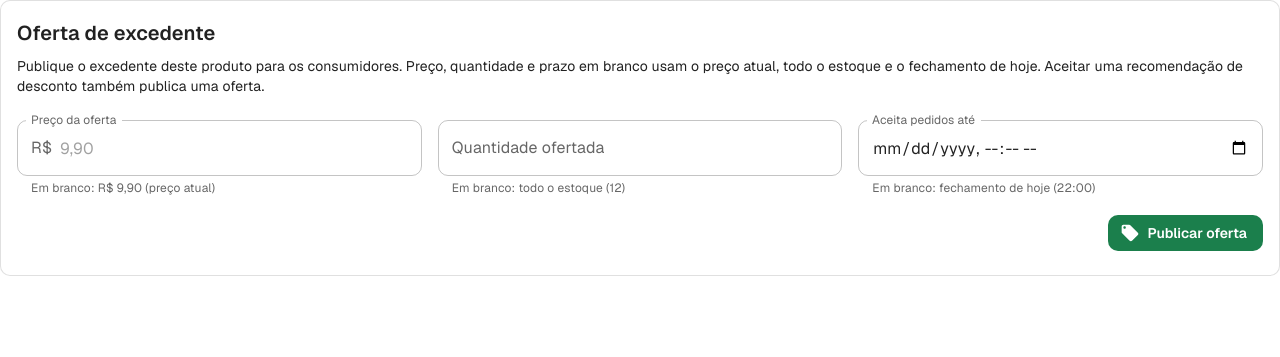
it: ProductOfferCard › explains the 422 raised when another offer of the product is still active
Click the button "Publicar oferta" at (1185, 233), box [1108,215,1263,251]
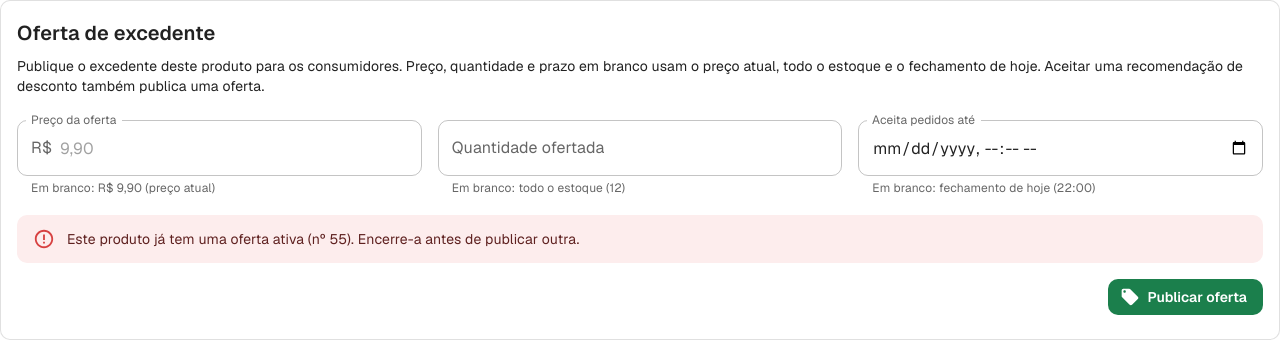
expect the text "Este produto já tem uma oferta ativa (nº 55). Encerre-a antes de publicar outra." is shown: met, box [67,230,579,248]
